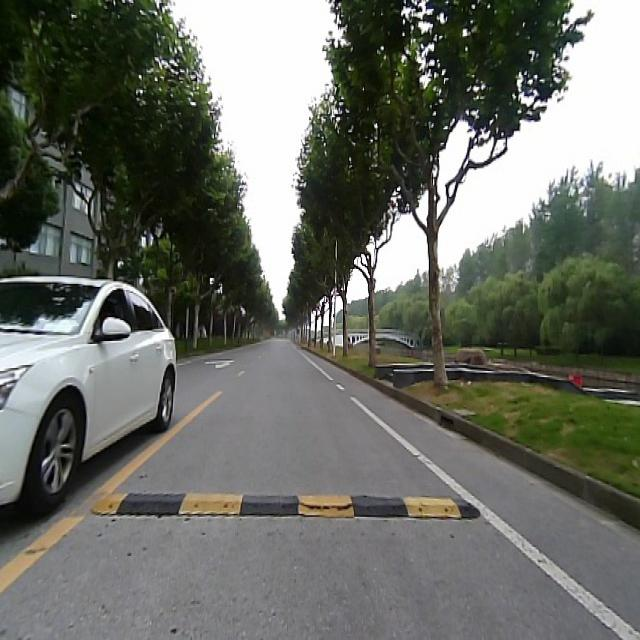Speed Bump: (88, 486, 482, 522)
